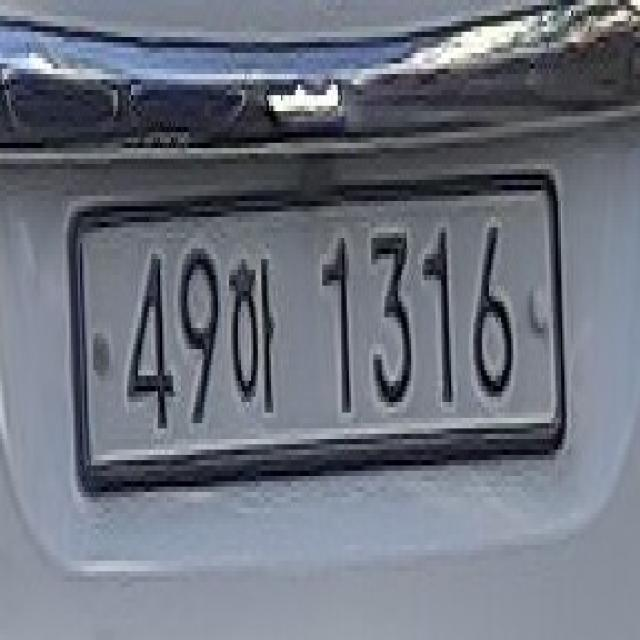1: (422, 213, 458, 414), (320, 224, 354, 428)
3: (370, 215, 413, 419)
4: (122, 248, 174, 433)
6: (468, 218, 520, 410)
9: (178, 230, 220, 430)
ha: (226, 245, 282, 430)
license_plate: (50, 159, 569, 529)
